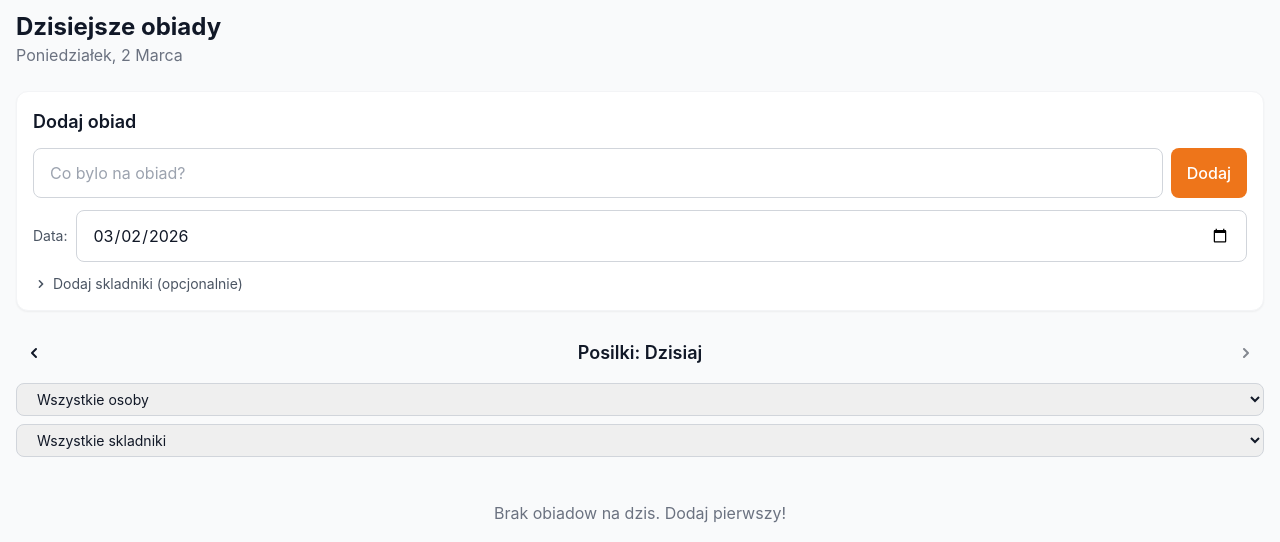
Test: HomePage › adds meal on Enter key
Step 1. Type "Pizza" into the dropdown with placeholder "Co bylo na obiad?" → (598, 173), box 33,148 -> 1163,198
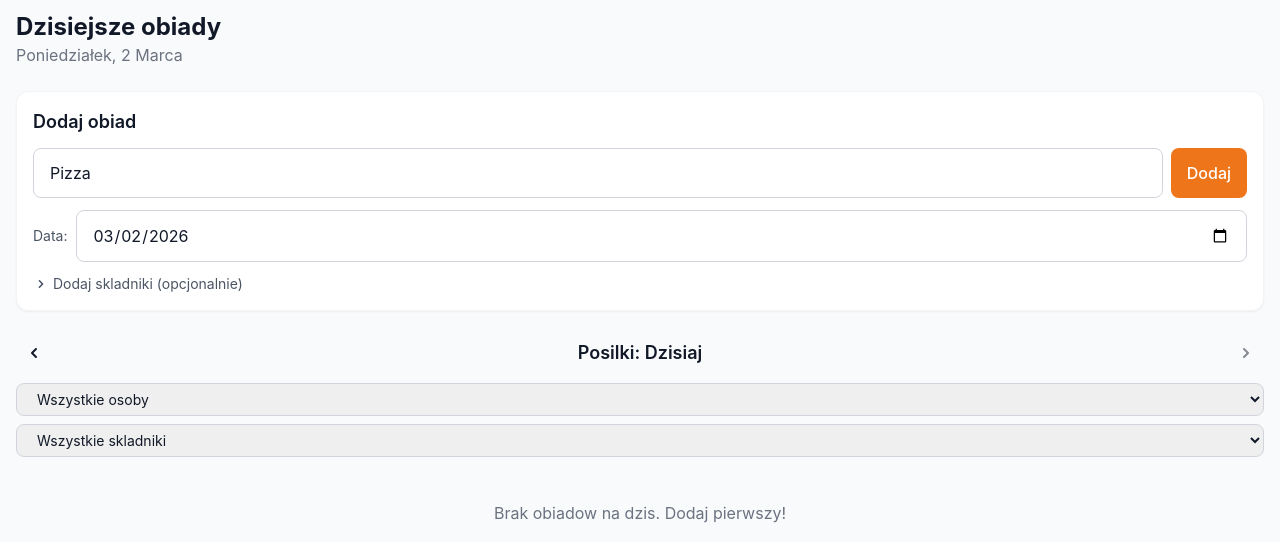
Step 2. Press Enter in the dropdown with placeholder "Co bylo na obiad?", box 33,148 -> 1163,198
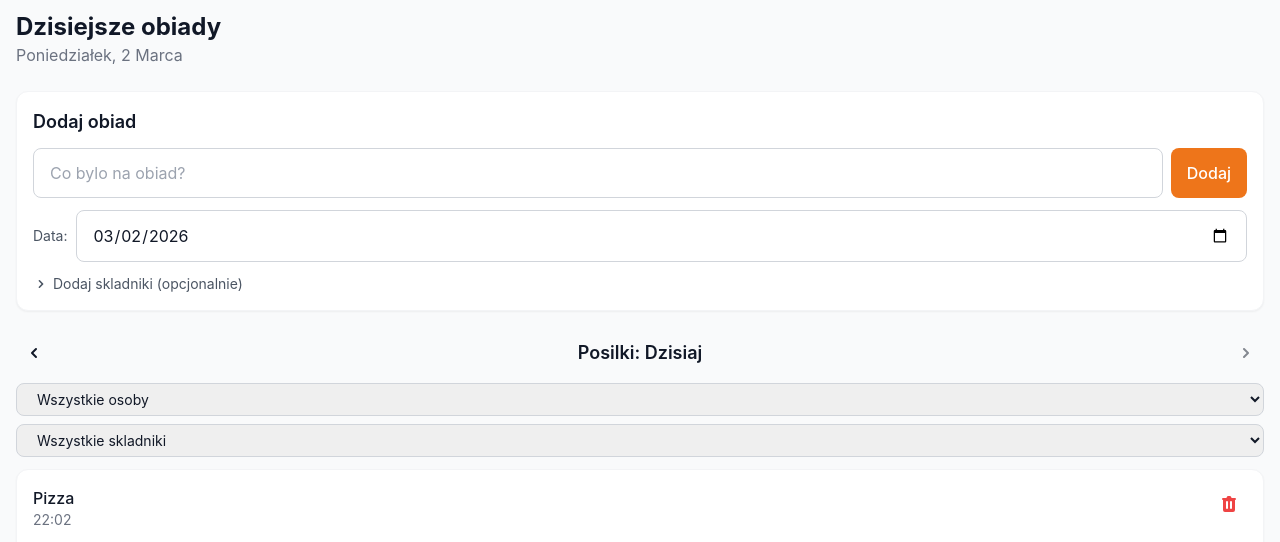
Expected: the text "Pizza" is shown, 33,486 -> 74,510
